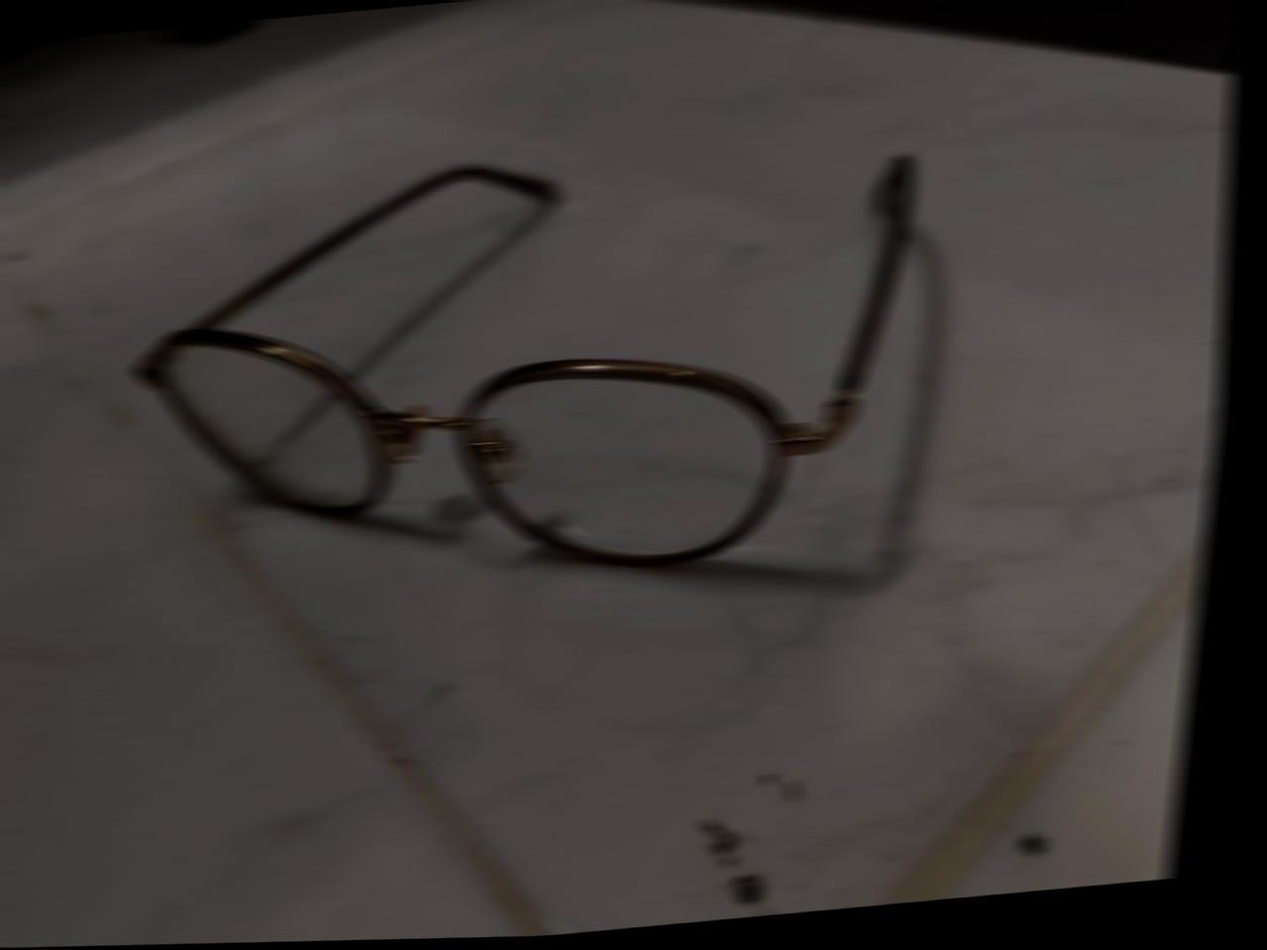glasses: (91, 119, 961, 636)
